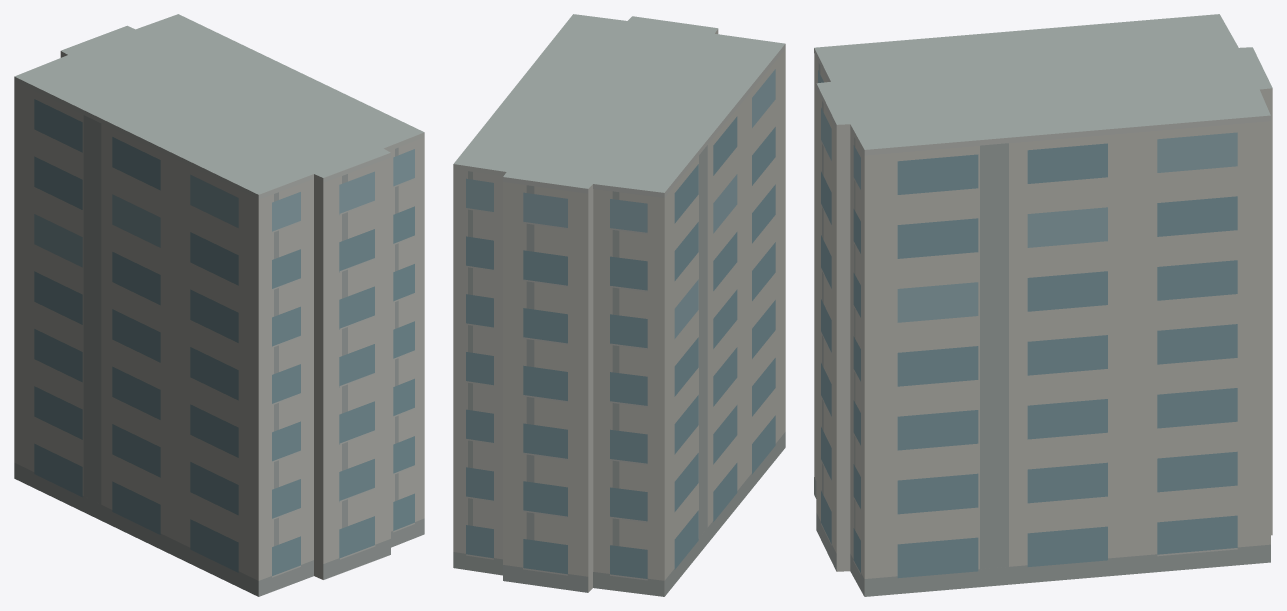
File: survey-upis-32932413.glb
The picture shows the model from 3 angles, left to right: view 1: azimuth 30°, elevation 25°; view 2: azimuth 150°, elevation 25°; view 3: azimuth 270°, elevation 25°; orthographic projection. The views are drawn at different scales.
Visible parts, largest first — view 1: survey-upis-32932413.tmp; view 2: survey-upis-32932413.tmp; view 3: survey-upis-32932413.tmp.
Part boxes in pixels (x1=…): survey-upis-32932413.tmp: x1=14, y1=14, x2=424, y2=596; survey-upis-32932413.tmp: x1=453, y1=14, x2=785, y2=596; survey-upis-32932413.tmp: x1=814, y1=14, x2=1272, y2=596.
Bounding box in the file's own units: 13.05 × 20 × 18.61.
